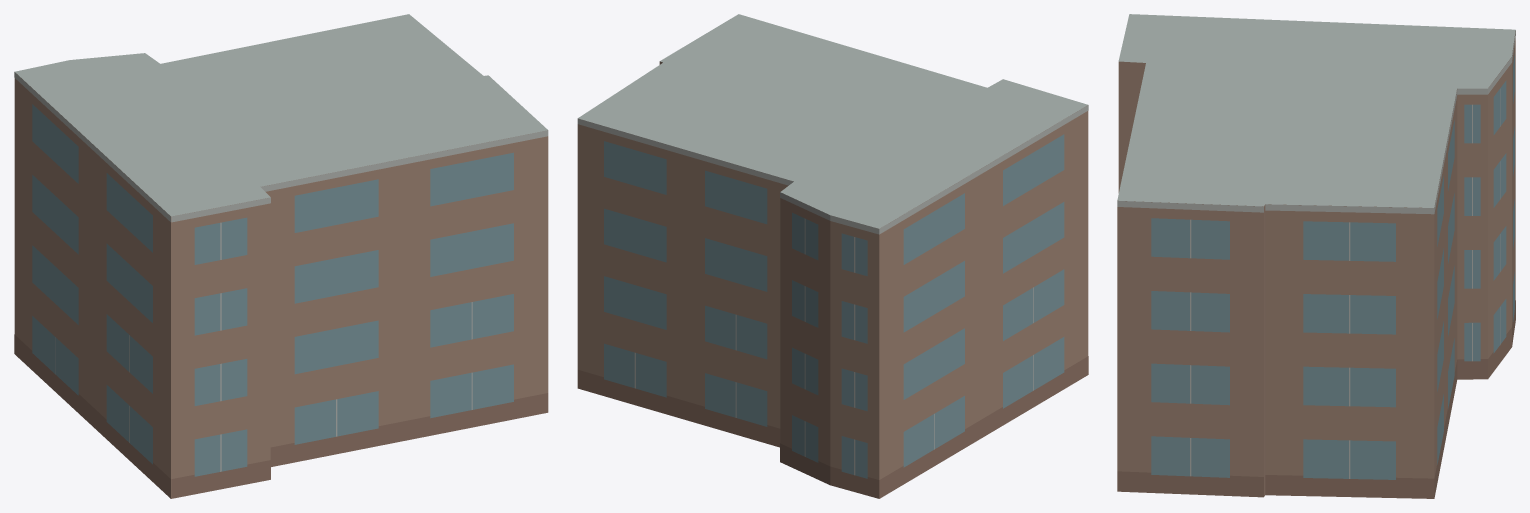
The model's file is survey-upis-32673112.glb.
The picture shows the model from 3 angles, left to right: view 1: azimuth 30°, elevation 25°; view 2: azimuth 150°, elevation 25°; view 3: azimuth 270°, elevation 25°; orthographic projection. The views are drawn at different scales.
Visible parts, largest first — view 1: survey-upis-32673112.tmp; view 2: survey-upis-32673112.tmp; view 3: survey-upis-32673112.tmp.
Part boxes in pixels (x1=…): survey-upis-32673112.tmp: x1=14, y1=14, x2=548, y2=498; survey-upis-32673112.tmp: x1=577, y1=14, x2=1088, y2=498; survey-upis-32673112.tmp: x1=1117, y1=14, x2=1515, y2=498.
Bounding box in the file's own units: 16.47 × 11.5 × 14.29.
